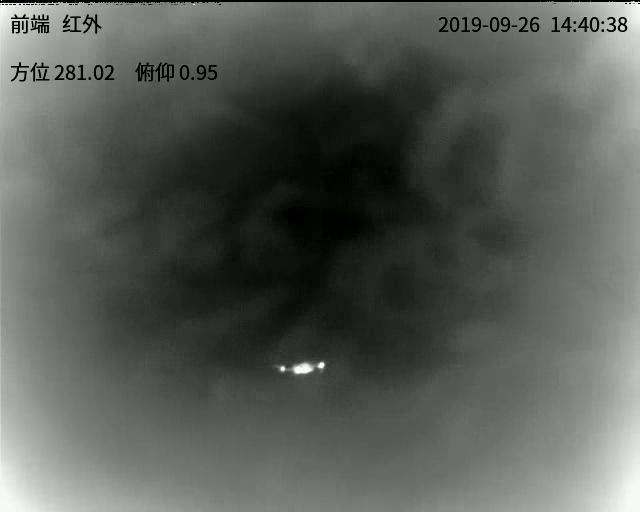DRONE: (277, 359, 326, 376)
